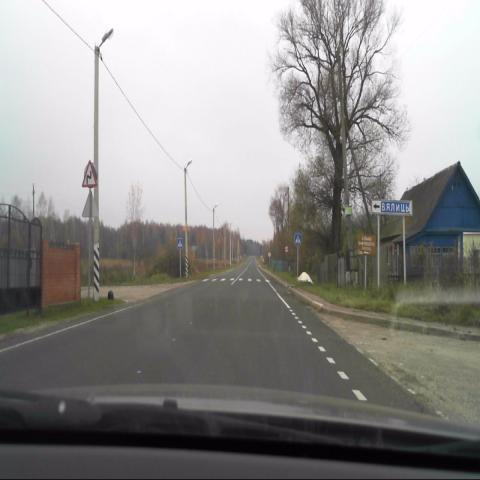1_12: (81, 160, 96, 188)
